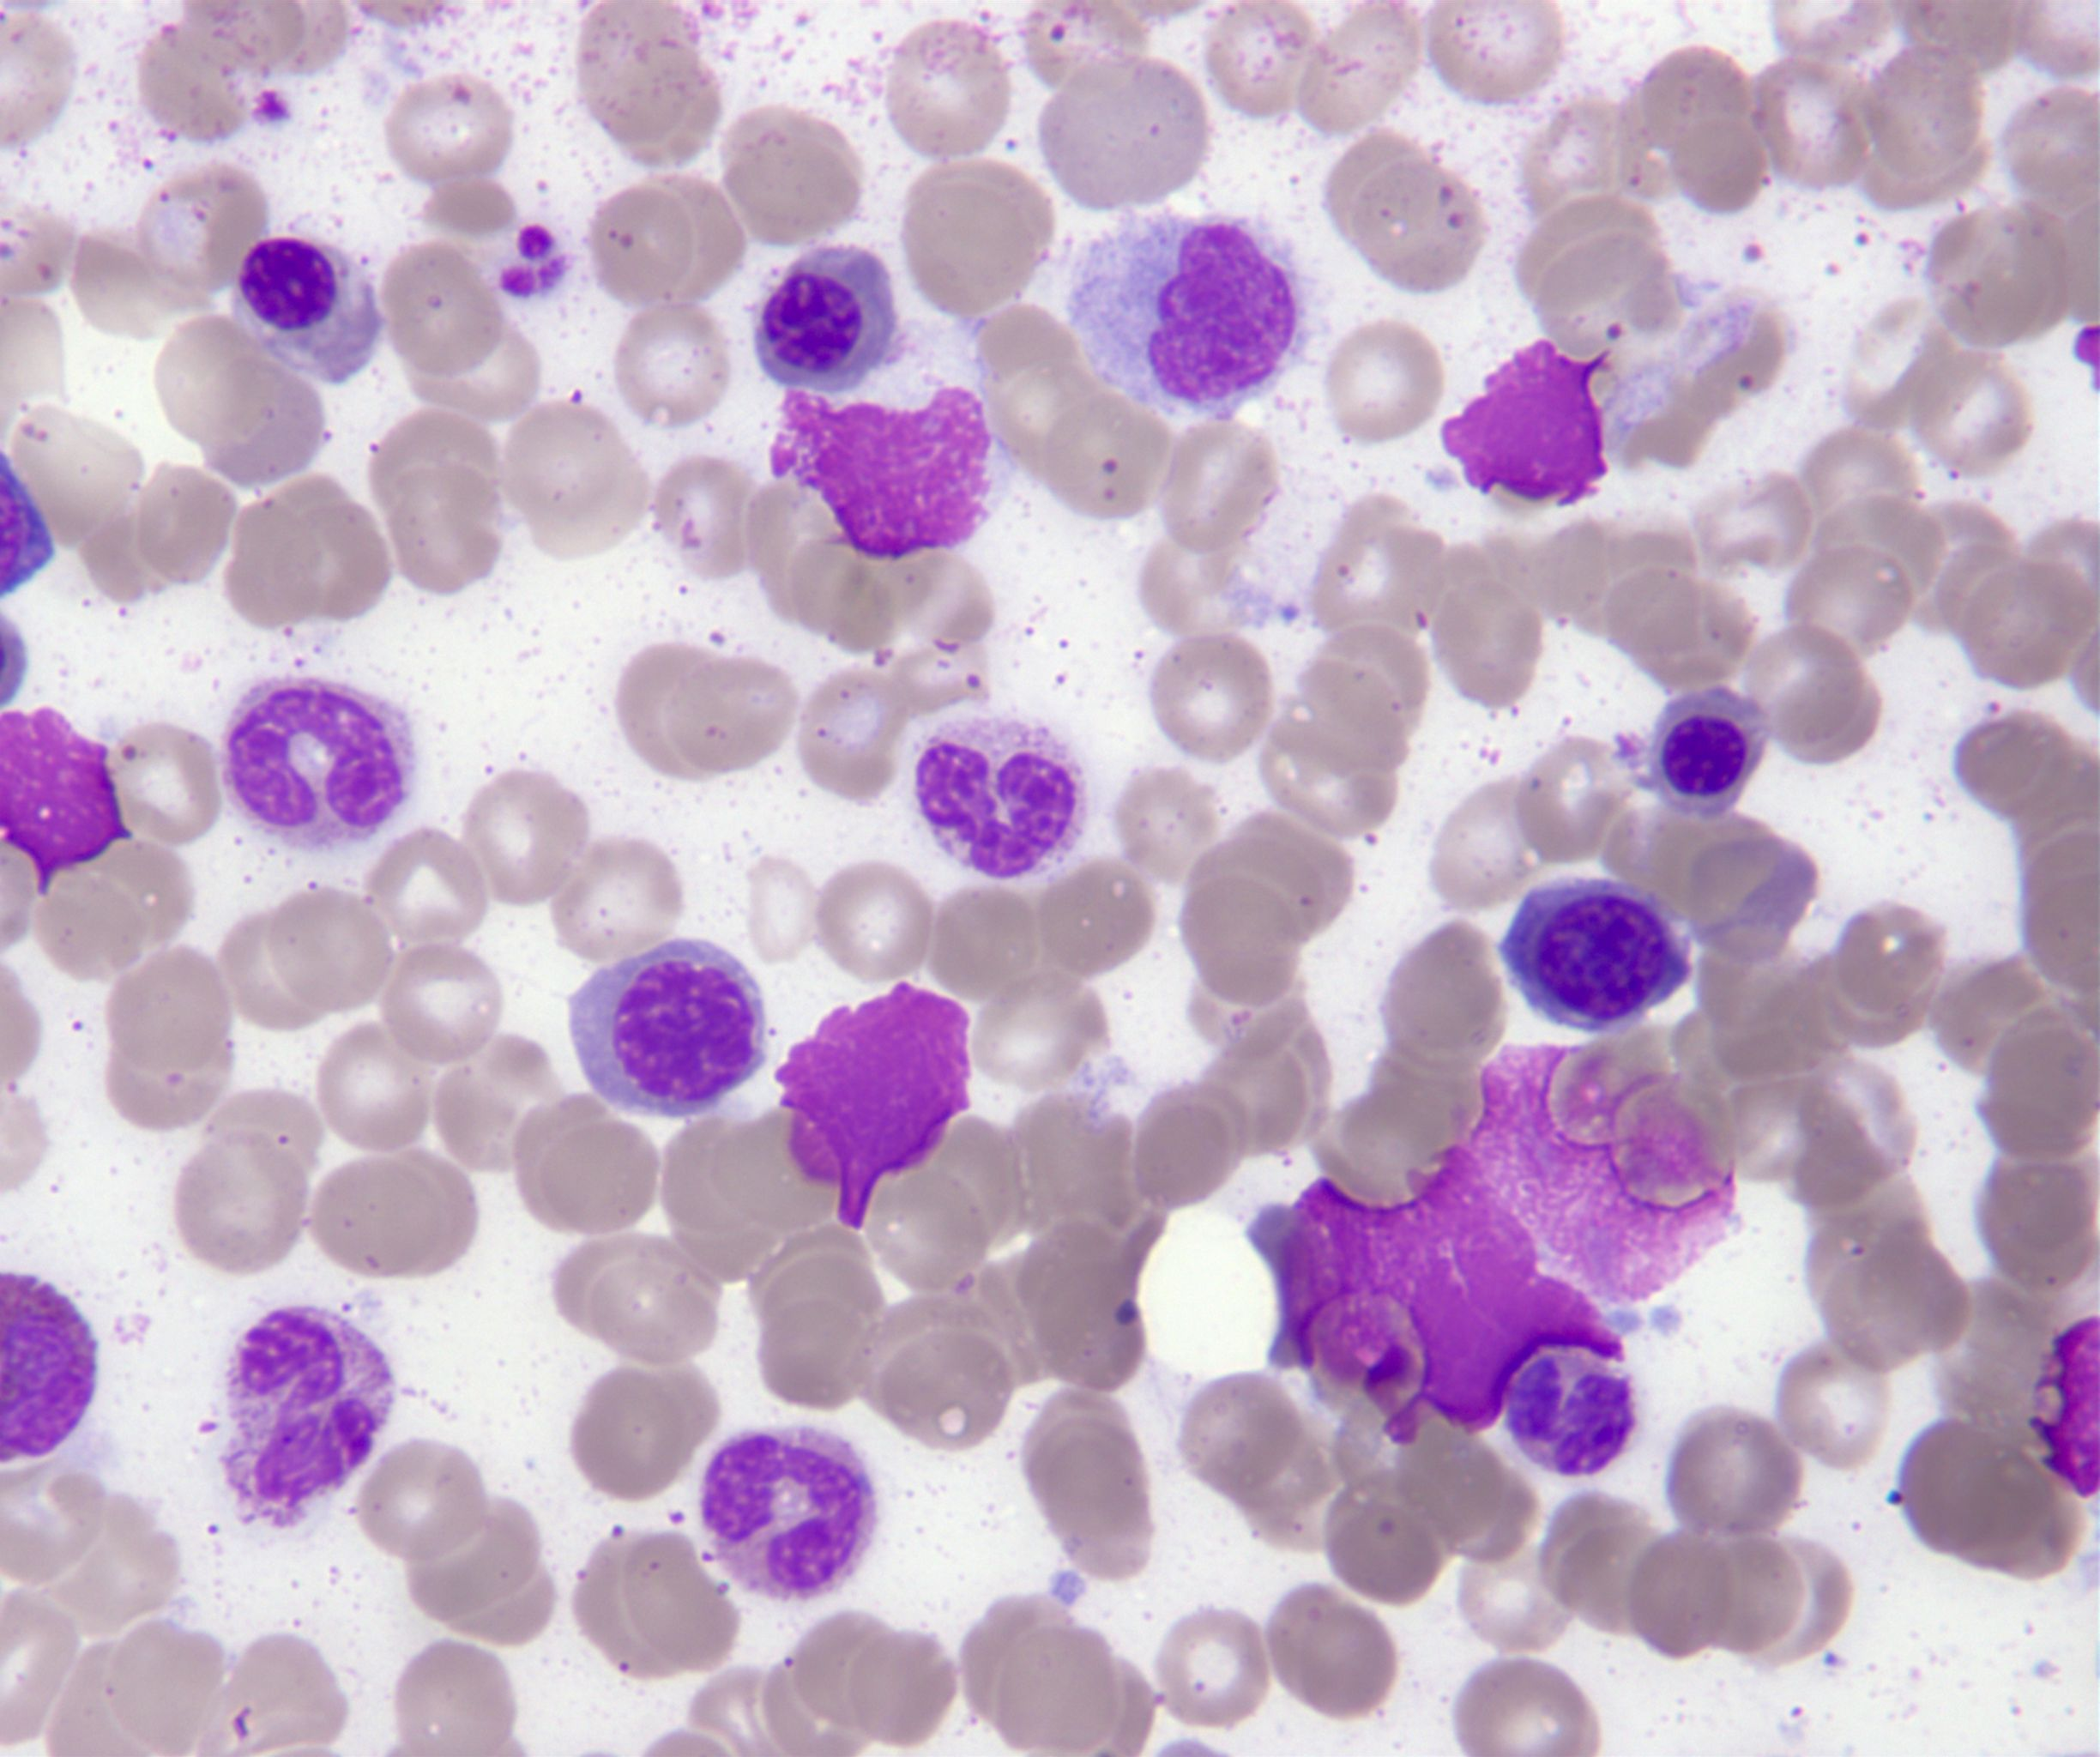22: (1497, 883, 1690, 1029)
23: (574, 939, 767, 1120), (753, 246, 895, 389)
24: (230, 236, 378, 382), (1647, 686, 1769, 813)
42: (1067, 215, 1292, 410)
5: (225, 679, 408, 850), (703, 1425, 877, 1600), (916, 715, 1083, 876)
6: (218, 1307, 389, 1530), (1505, 1342, 1633, 1480)
x: (1273, 1050, 1737, 1431), (774, 981, 972, 1230), (771, 384, 992, 553), (1441, 340, 1610, 501), (2, 707, 134, 899), (0, 1270, 98, 1462)
